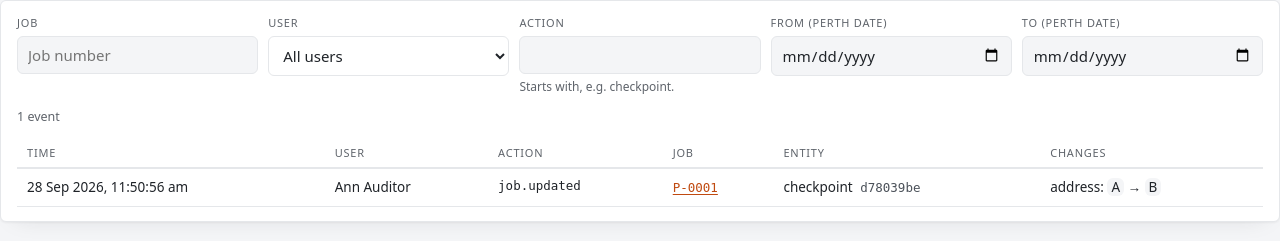
Test case: AuditPage Perth date range › warns when the end date is before the start date
Expected: the text "job.updated" is shown, x1=488 y1=168 x2=663 y2=207
Type "2026-09-28" into the date field labelled "From (Perth date)" at (891, 56), box x1=771 y1=36 x2=1012 y2=76
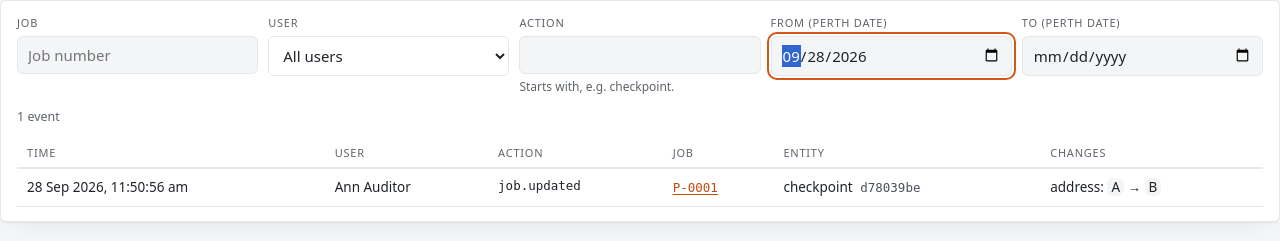
Type "2026-09-01" into the date field labelled "To (Perth date)" at (1142, 56), box x1=1022 y1=36 x2=1263 y2=76
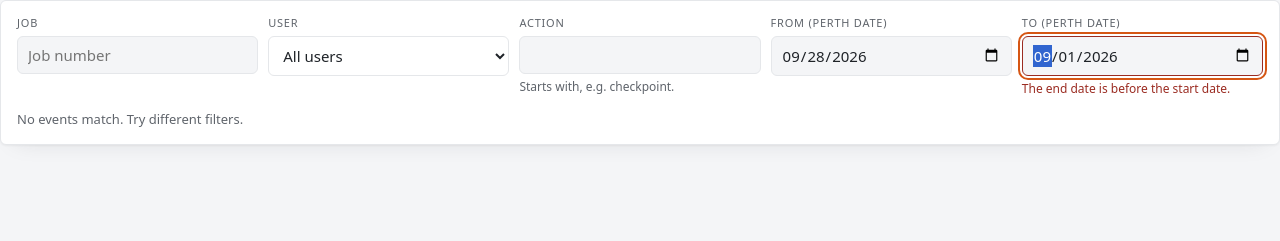
Result: the text "The end date is before the start date." is shown at x1=1022 y1=80 x2=1263 y2=98
